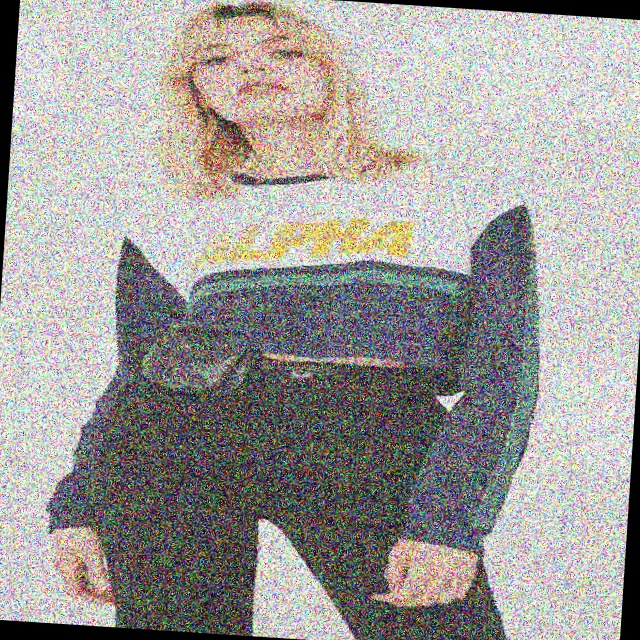Crop_Top: (183, 134, 476, 374)
